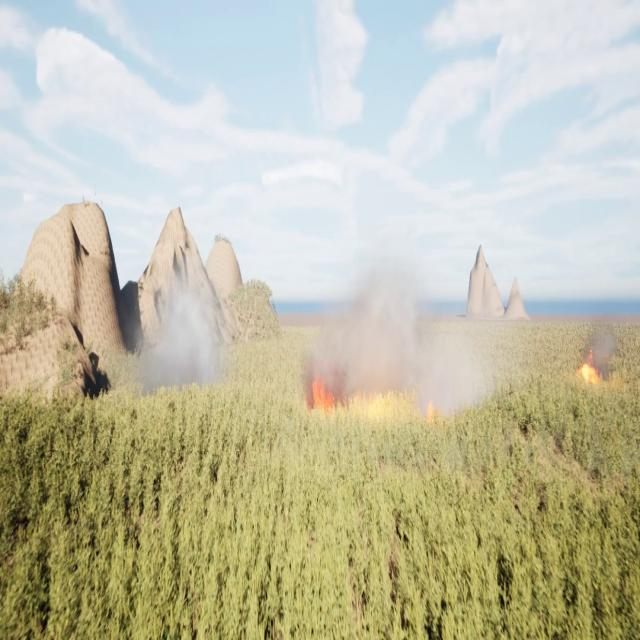fire: (306, 376, 339, 407), (576, 348, 602, 383)
smoke: (300, 241, 492, 422), (134, 283, 222, 391), (587, 321, 612, 379)
